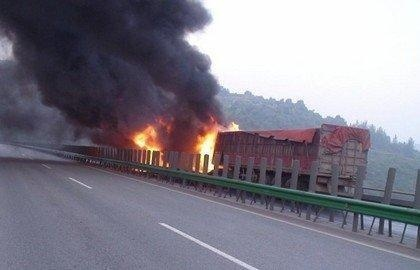fire: (191, 120, 223, 173), (132, 117, 165, 166)
